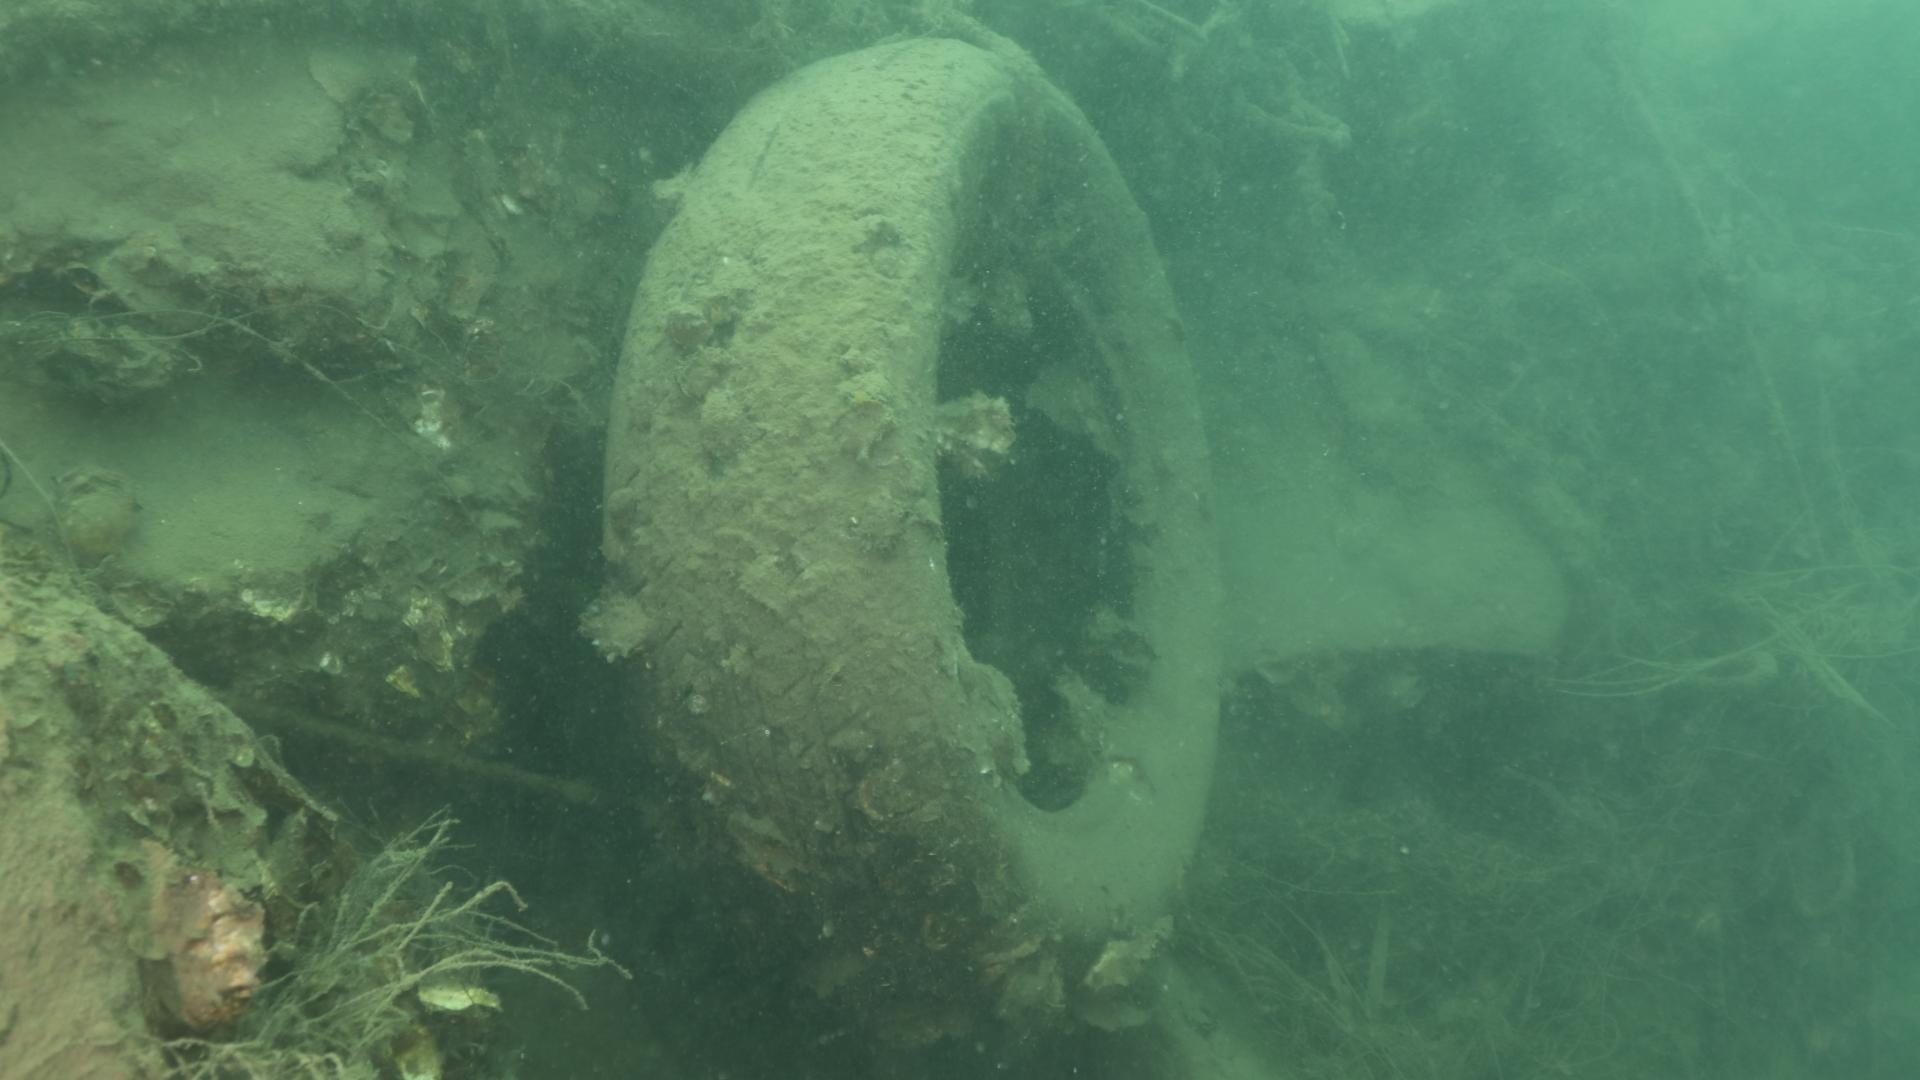tire: (600, 36, 1222, 1054)
